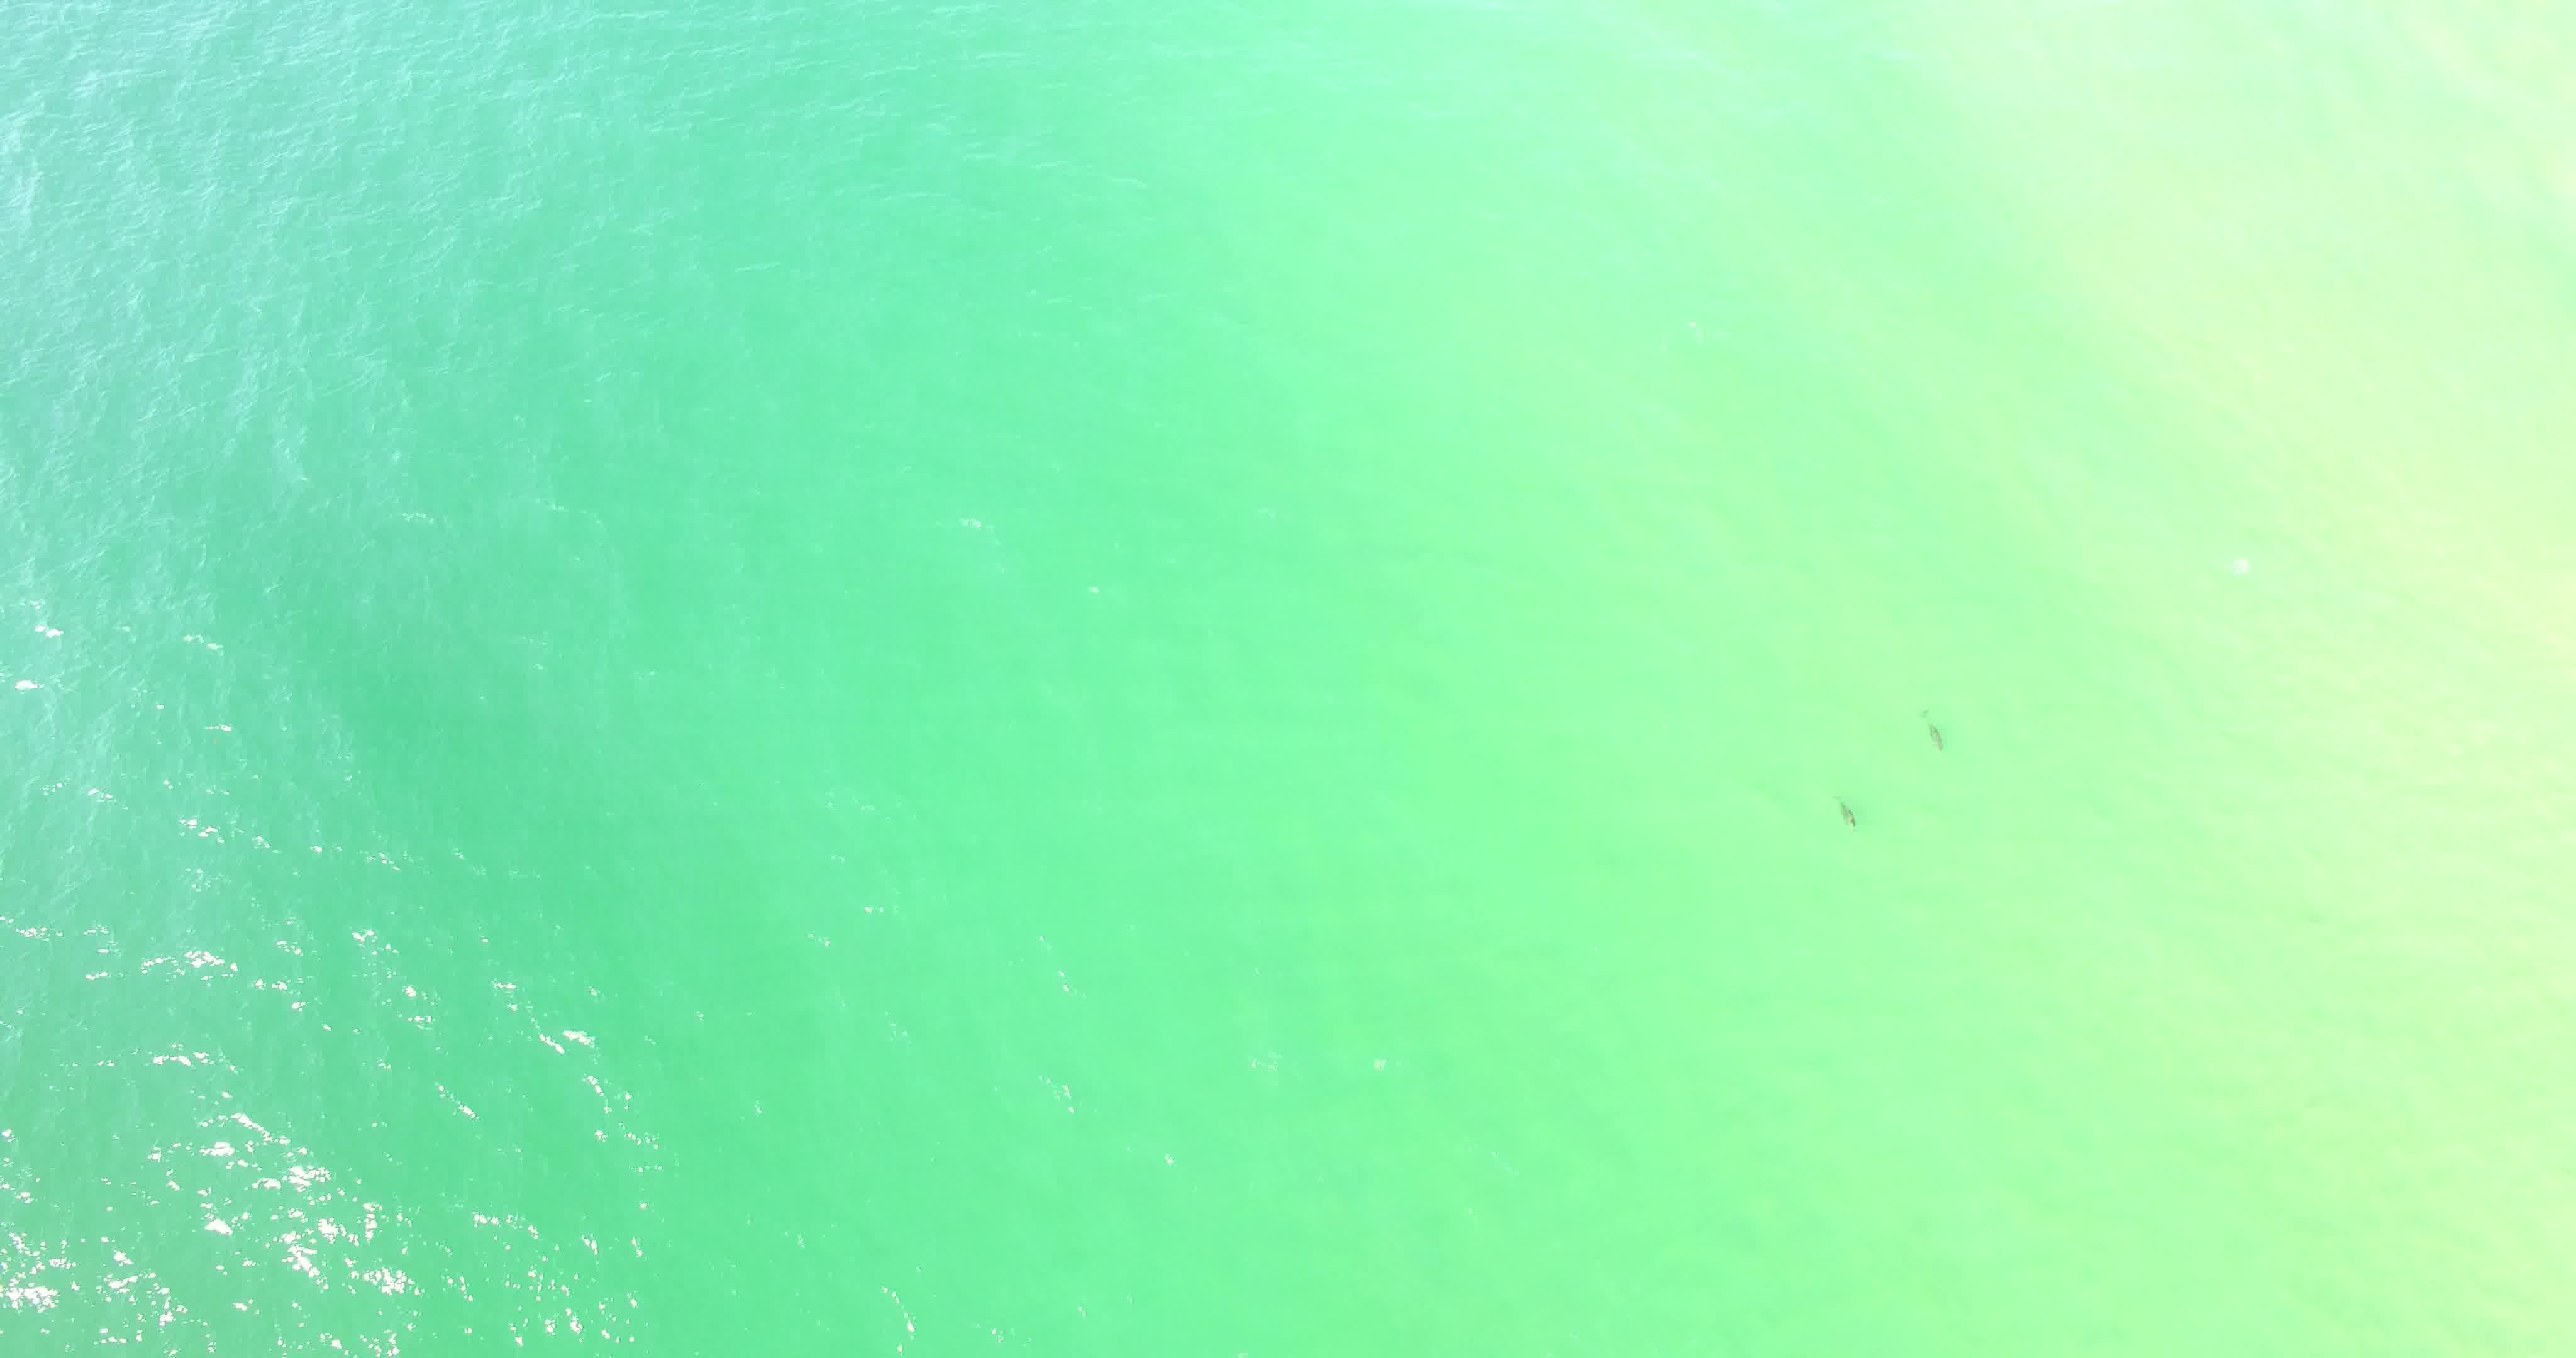dolphin: (1809, 768, 1881, 842), (1898, 697, 1959, 775)
